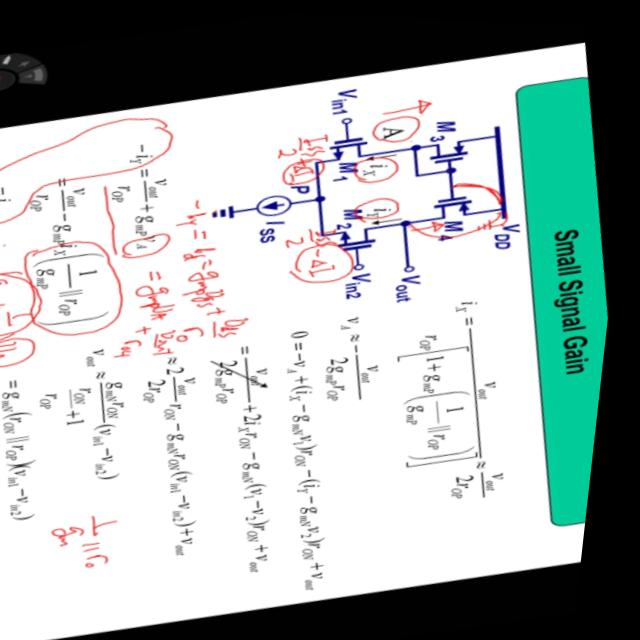panseo: (76, 166, 282, 375), (0, 181, 68, 395), (40, 494, 159, 585), (252, 114, 358, 198), (267, 214, 366, 294)
